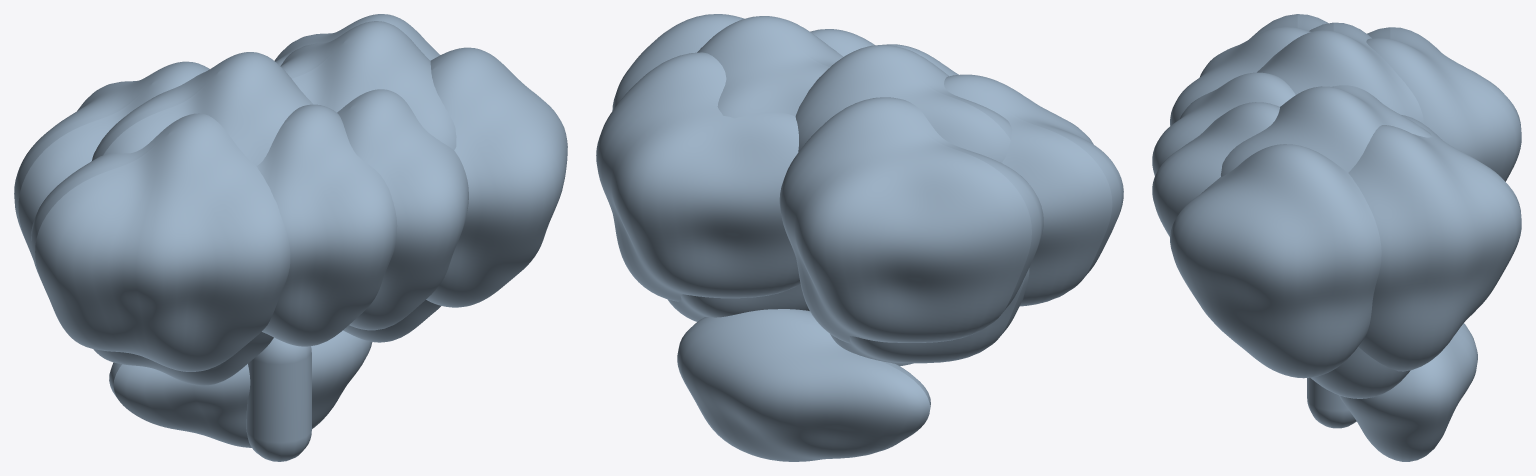
The model's file is brain-anatomical.glb.
3 renders of one model, left to right at view 1: azimuth 30°, elevation 25°; view 2: azimuth 150°, elevation 25°; view 3: azimuth 270°, elevation 25°, orthographic. The views are drawn at different scales.
Size of the model in its own units: 6.51 by 5.13 by 4.45.
